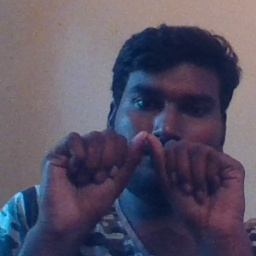A: (76, 125, 210, 218)
